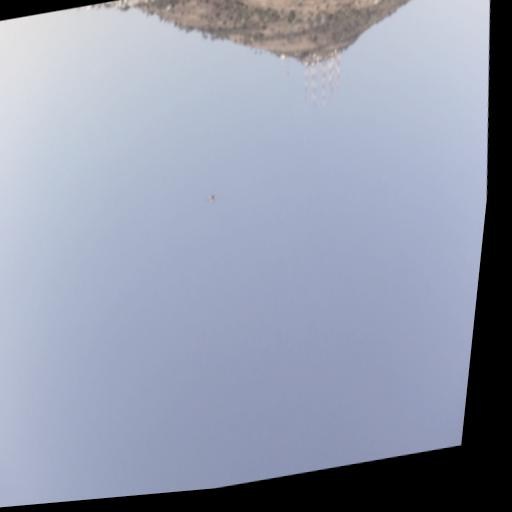drones: (205, 192, 219, 207)
